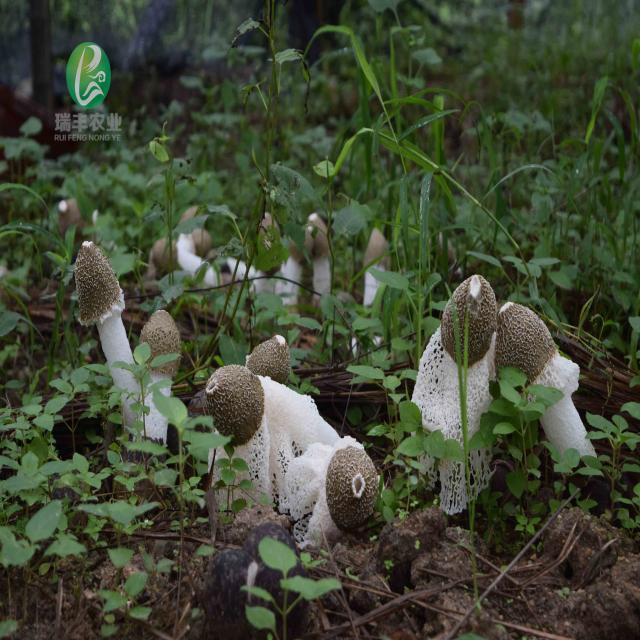Dictyophora indusiate: (412, 275, 498, 514), (496, 300, 598, 476), (77, 238, 138, 436), (210, 365, 340, 450), (269, 441, 377, 542), (255, 336, 291, 513), (137, 311, 180, 450), (306, 210, 337, 306), (364, 227, 393, 314)
